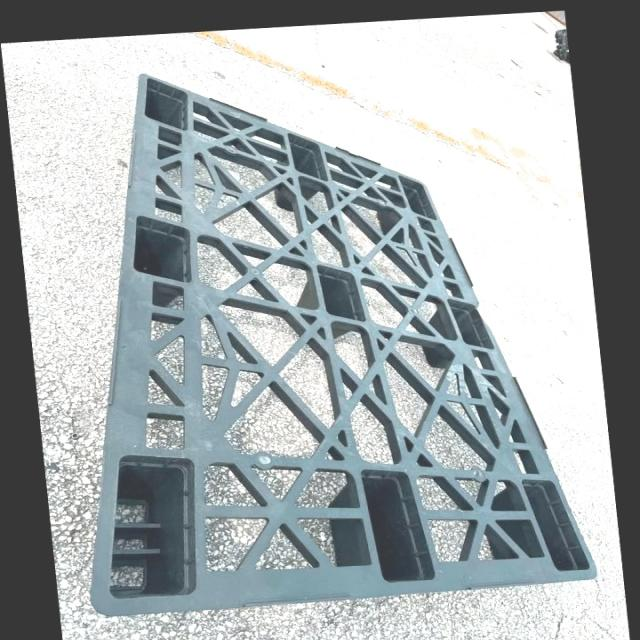non-igps: (80, 65, 607, 624)
